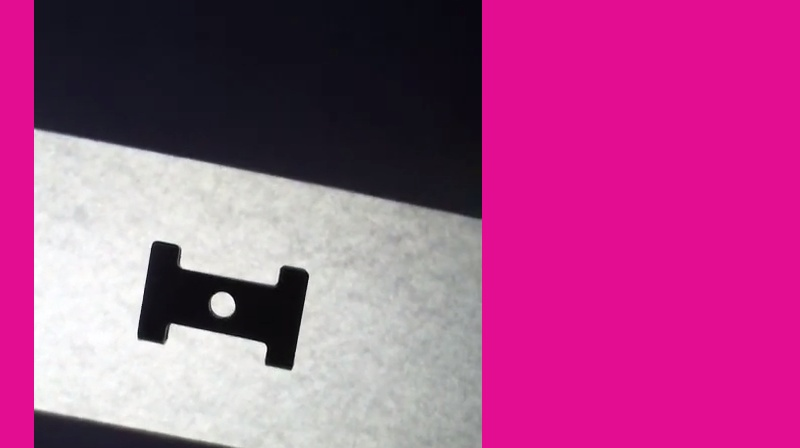O002: (134, 236, 311, 375)
